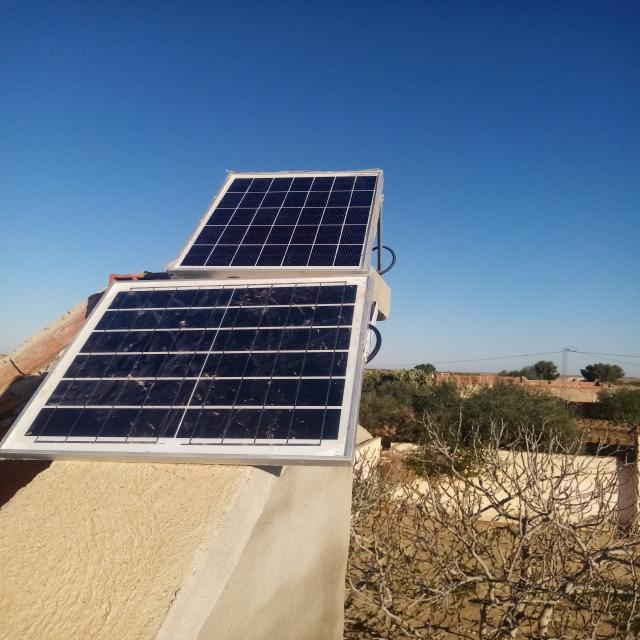faulty: (0, 275, 369, 462)
no faulty: (168, 172, 381, 268)
